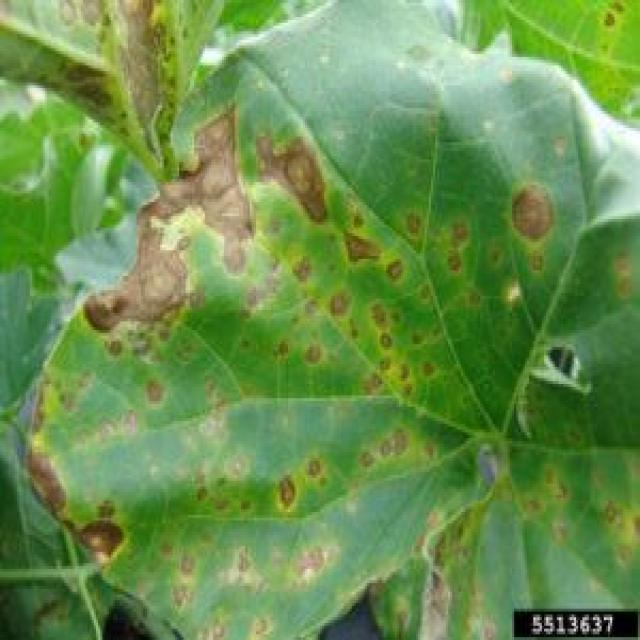blight: (183, 114, 322, 254)
